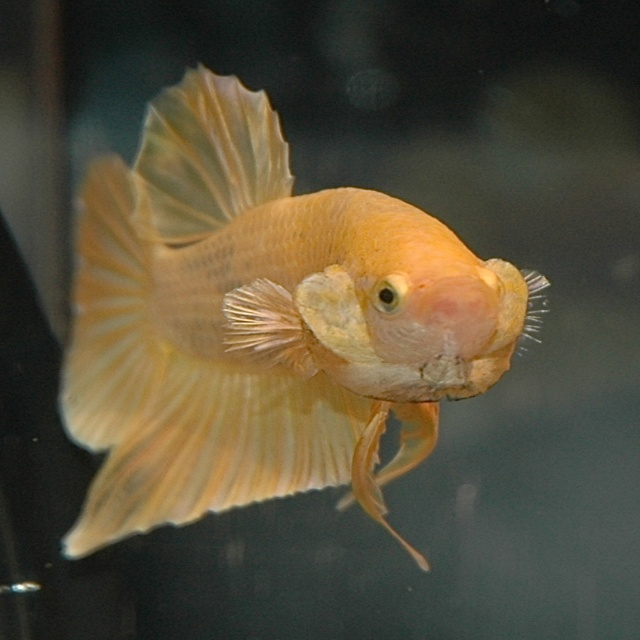Goldfish: (49, 113, 540, 584)
